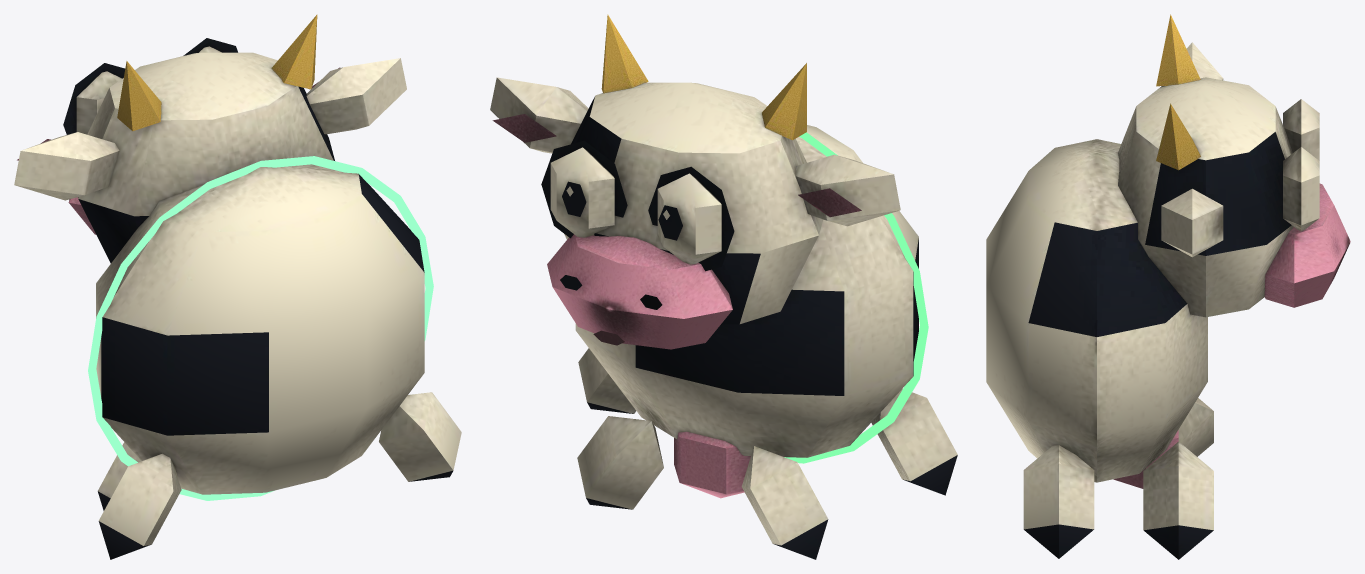
The picture shows the model from 3 angles, left to right: view 1: azimuth 30°, elevation 25°; view 2: azimuth 150°, elevation 25°; view 3: azimuth 270°, elevation 25°; orthographic projection. The views are drawn at different scales.
Visible parts, largest first — view 1: Moon_cream, Cartoon_black, glow_Tractor_beam_edge, Hay_gold_horns; view 2: Moon_cream, Cartoon_black, Pig_pink, Hay_gold_horns, glow_Tractor_beam_edge; view 3: Moon_cream, Cartoon_black, Pig_pink, Hay_gold_horns.
Part boxes in pixels (bbox=[...]): Moon_cream: bbox=[14, 46, 461, 545]; Cartoon_black: bbox=[63, 38, 452, 559]; glow_Tractor_beam_edge: bbox=[88, 156, 433, 500]; Hay_gold_horns: bbox=[117, 14, 317, 131]; Moon_cream: bbox=[490, 77, 957, 545]; Cartoon_black: bbox=[541, 97, 957, 559]; Pig_pink: bbox=[492, 114, 861, 498]; Hay_gold_horns: bbox=[601, 14, 806, 140]; glow_Tractor_beam_edge: bbox=[784, 132, 928, 463]; Moon_cream: bbox=[986, 42, 1319, 530]; Cartoon_black: bbox=[1024, 132, 1291, 559]; Pig_pink: bbox=[1113, 183, 1350, 488]; Hay_gold_horns: bbox=[1156, 14, 1200, 170].
Bounding box in the file's own units: 0.7996 × 0.913 × 0.6695.
Materials: 5 (4 with a texture image).
